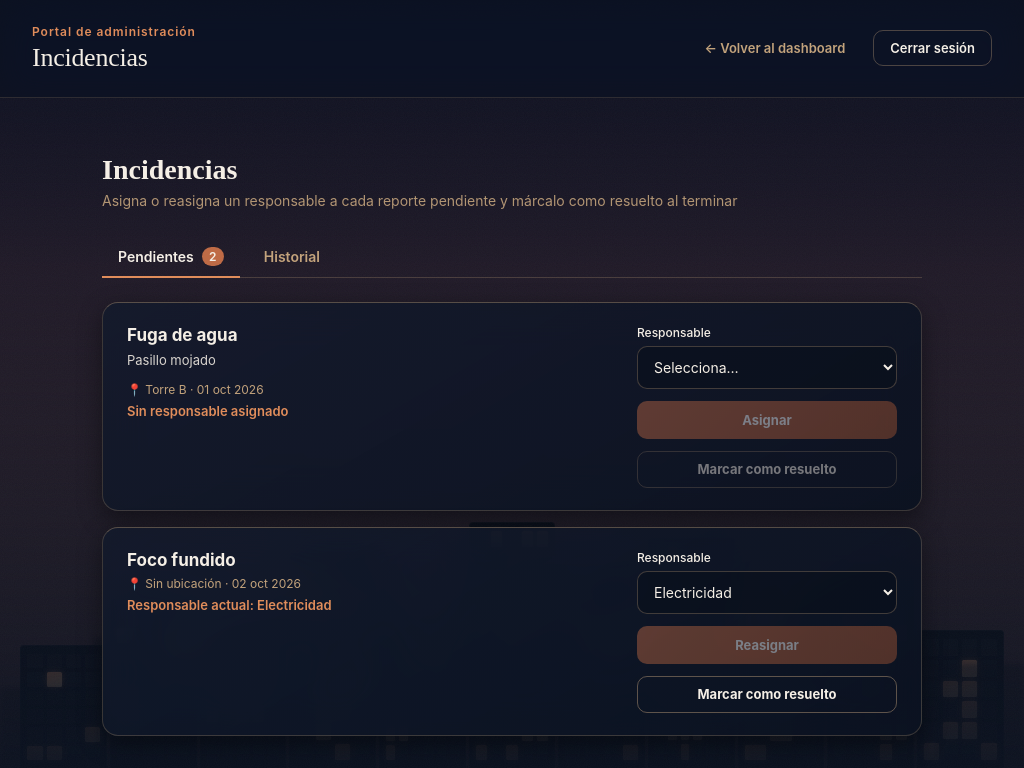
Test case: historial de resueltas › se carga al abrir la pestaña y muestra quién atendió y cuánto tardó
Expected: the heading "Fuga de agua" is shown, [127,325,238,345]
Click the tab "Historial" at (292, 257), box [248,237,336,278]
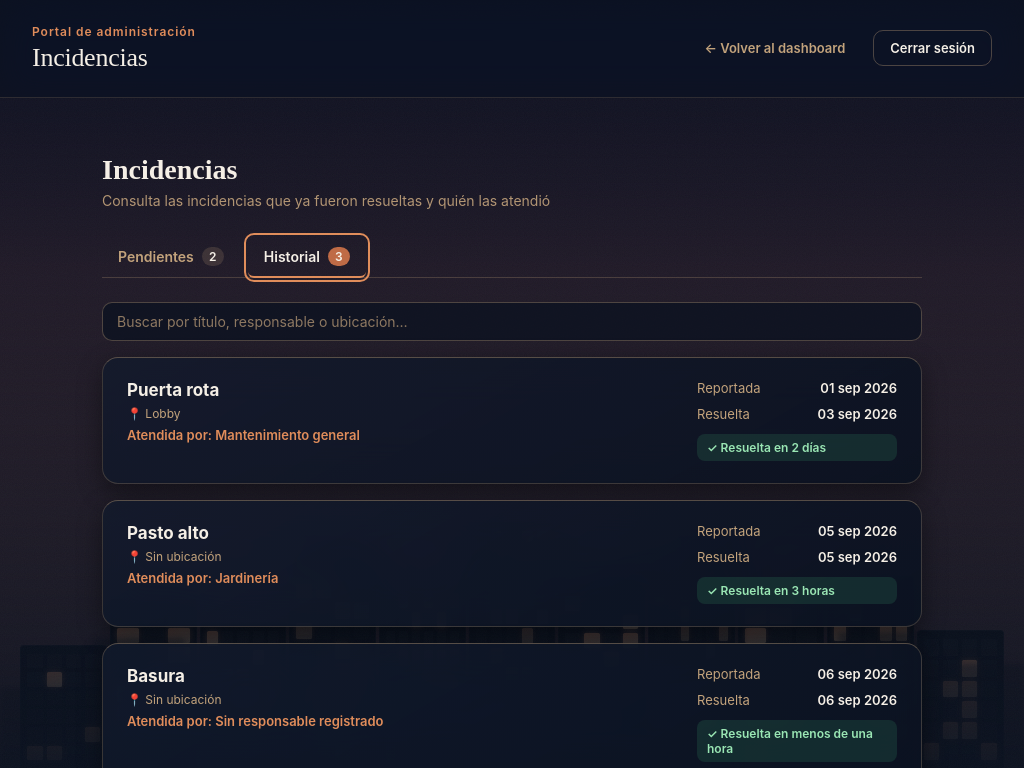
Now the text "Atendida por: Mantenimiento general" is shown, box [127,427,360,443]
Now the text "✓ Resuelta en 2 días" is shown, box [697,434,897,461]
Now the text "✓ Resuelta en 3 horas" is shown, box [697,577,897,604]
